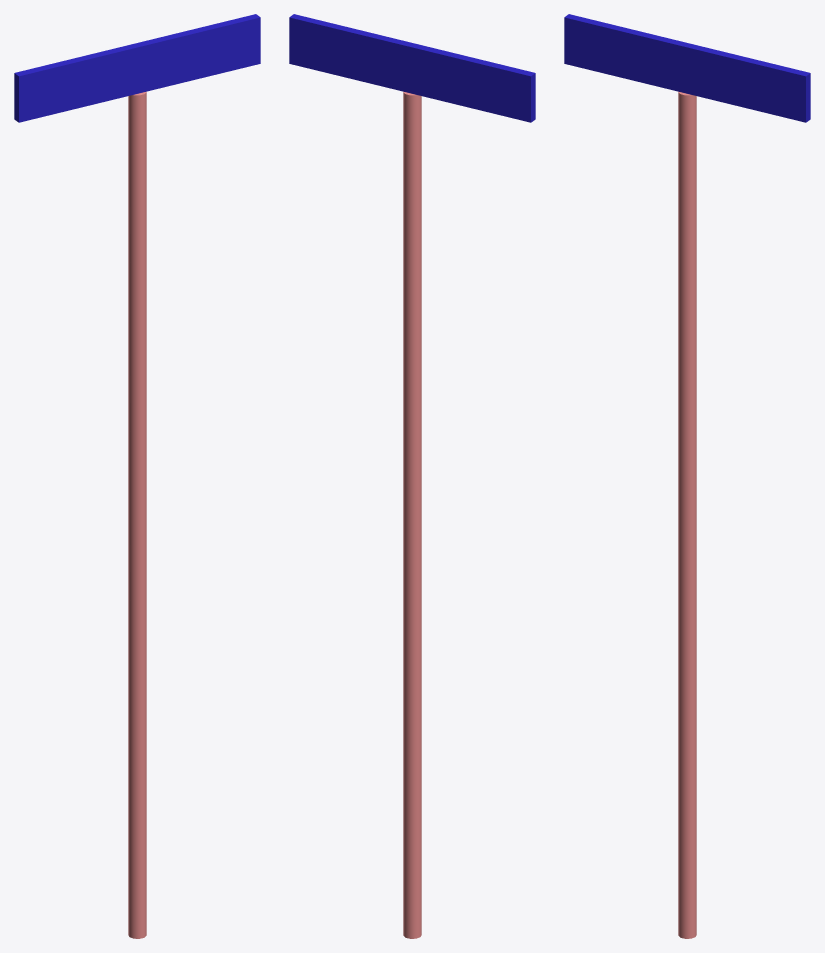
File: sign.FBX
The picture shows the model from 3 angles, left to right: view 1: azimuth 30°, elevation 25°; view 2: azimuth 150°, elevation 25°; view 3: azimuth 330°, elevation 25°; orthographic projection.
Visible parts, largest first — view 1: Cylinder001; view 2: Cylinder001; view 3: Cylinder001.
Part boxes in pixels (left/top/right/bottom): Cylinder001: left=14, top=14, right=260, bottom=938; Cylinder001: left=289, top=14, right=535, bottom=938; Cylinder001: left=564, top=14, right=810, bottom=938.
Bounding box in the file's own units: 0.6 × 2.11 × 0.038.
